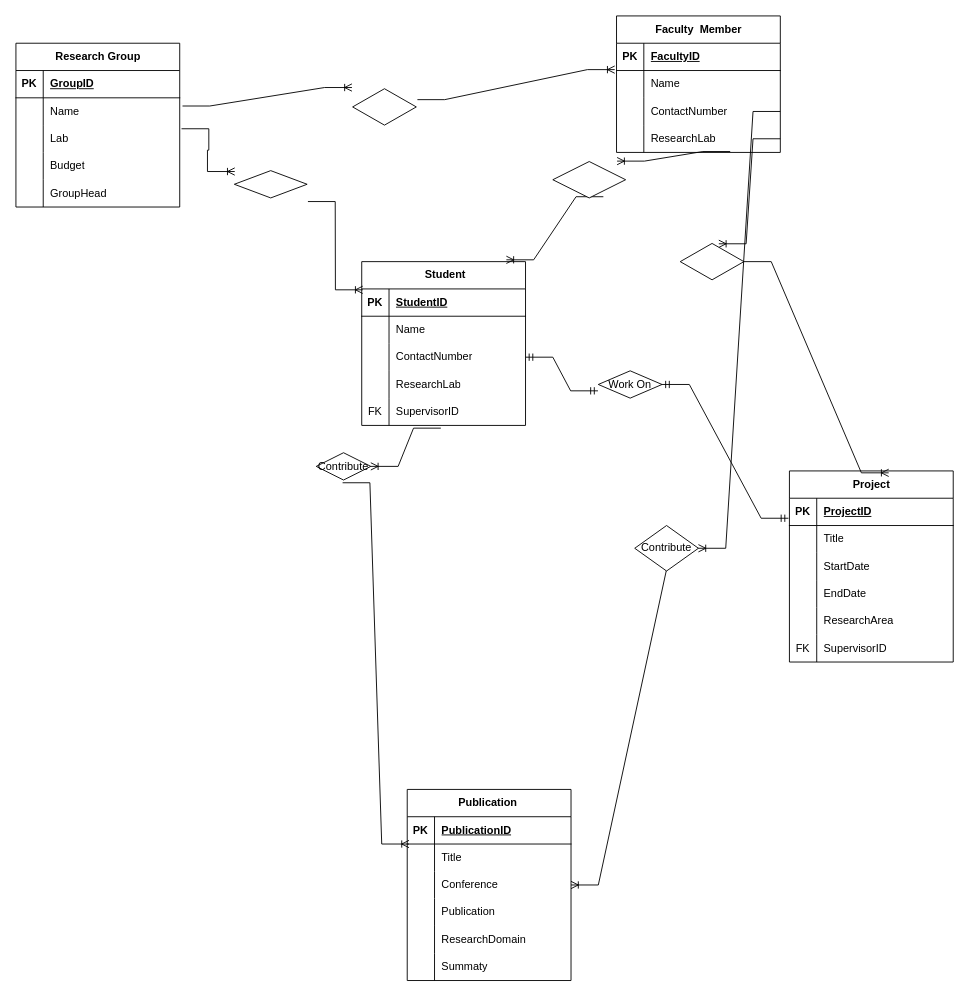
The diagram is 969 pixels wide and 996 high, and some of its shapes have lost their labels. Here are the shapes that lost their labels. From the top down, the centre of each, then its label:
At (384,106): "Have".
At (270,184): "Research".
At (589,179): "Supervise".
At (711,261): "Manage".
